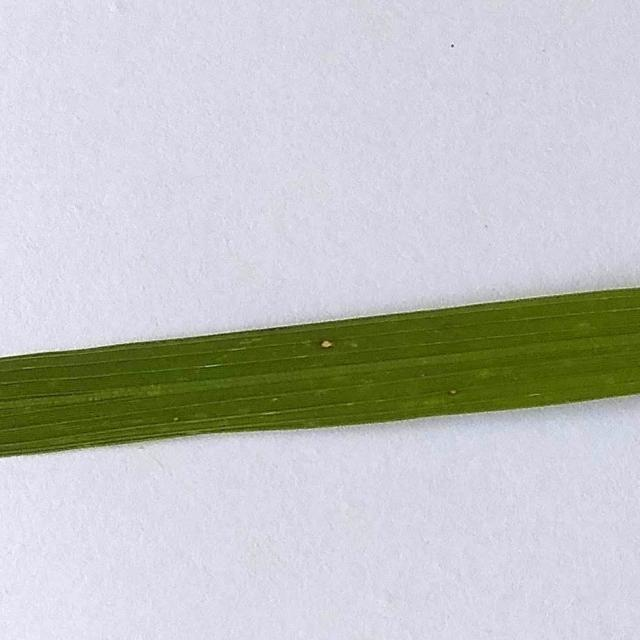Blast: (308, 335, 339, 353)
